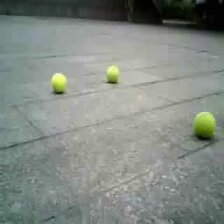tennis: (193, 113, 215, 139), (51, 72, 67, 93), (106, 65, 119, 82)
